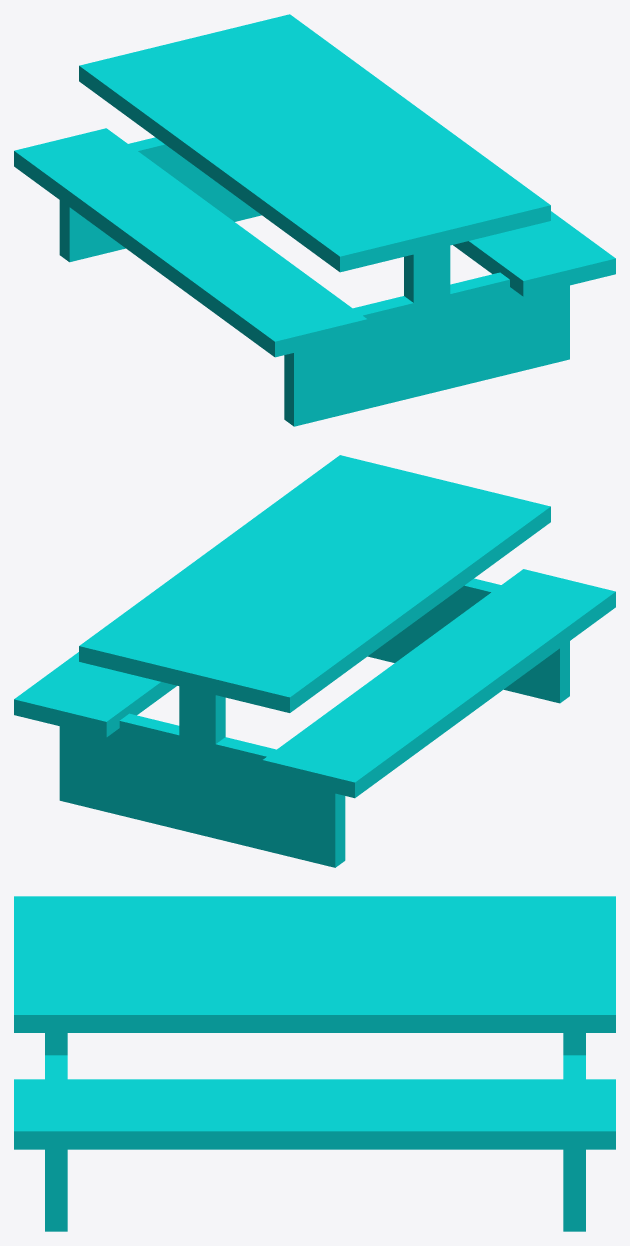
File: SM_Prop_Table_Outdoor_01_Collision.fbx
The picture shows the model from 3 angles, top to bottom: view 1: azimuth 30°, elevation 25°; view 2: azimuth 150°, elevation 25°; view 3: azimuth 270°, elevation 25°; orthographic projection. The views are drawn at different scales.
Parts seen in each view (by area): view 1: SM_Prop_Table_Outdoor_01_Collision; view 2: SM_Prop_Table_Outdoor_01_Collision; view 3: SM_Prop_Table_Outdoor_01_Collision.
Part boxes in pixels (bbox=[...]): SM_Prop_Table_Outdoor_01_Collision: bbox=[14, 14, 615, 426]; SM_Prop_Table_Outdoor_01_Collision: bbox=[14, 455, 615, 867]; SM_Prop_Table_Outdoor_01_Collision: bbox=[14, 896, 615, 1231].
Bounding box in the file's own units: 159 × 76.68 × 211.
